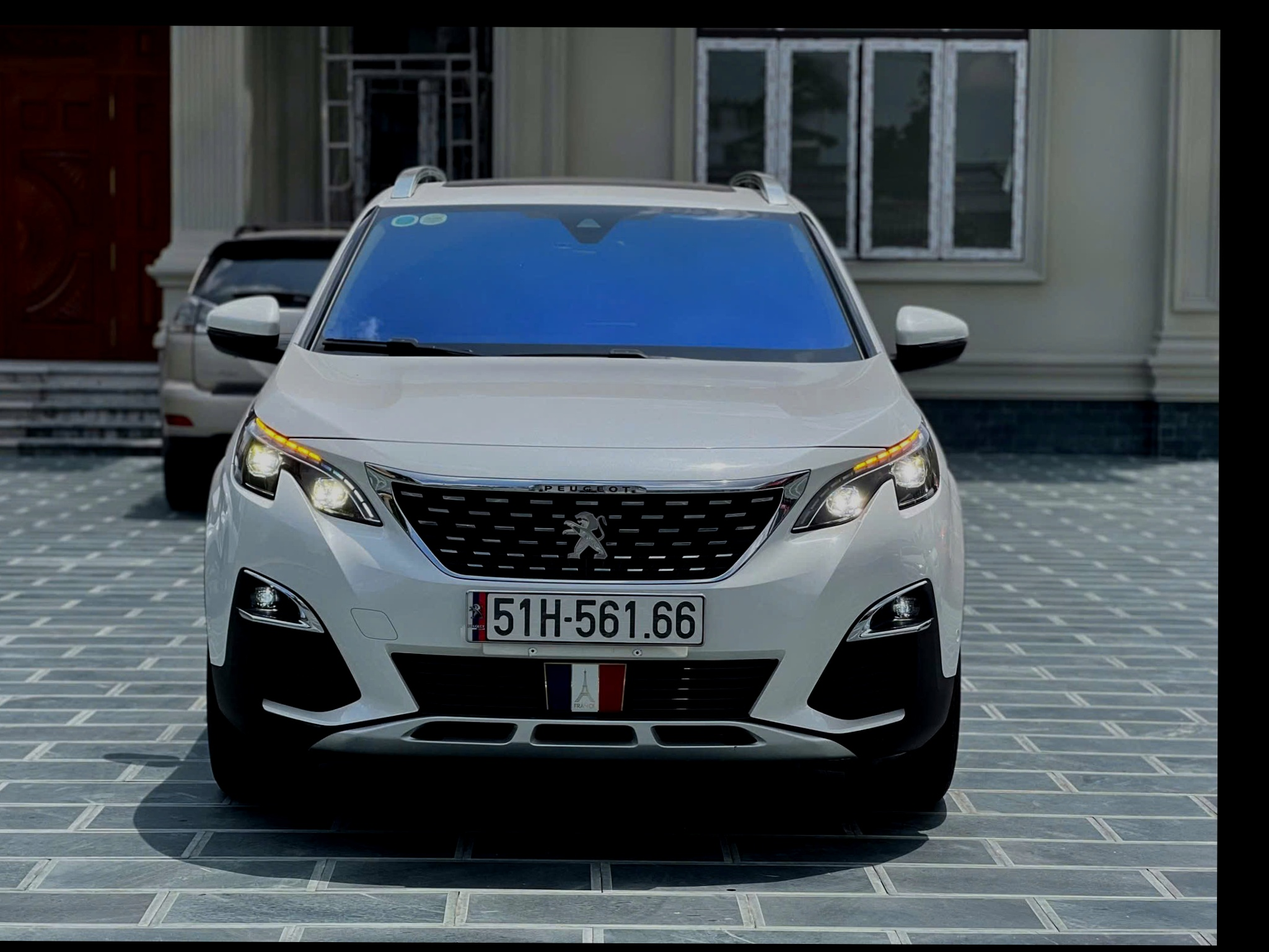Bien-so: (529, 577, 788, 659)
